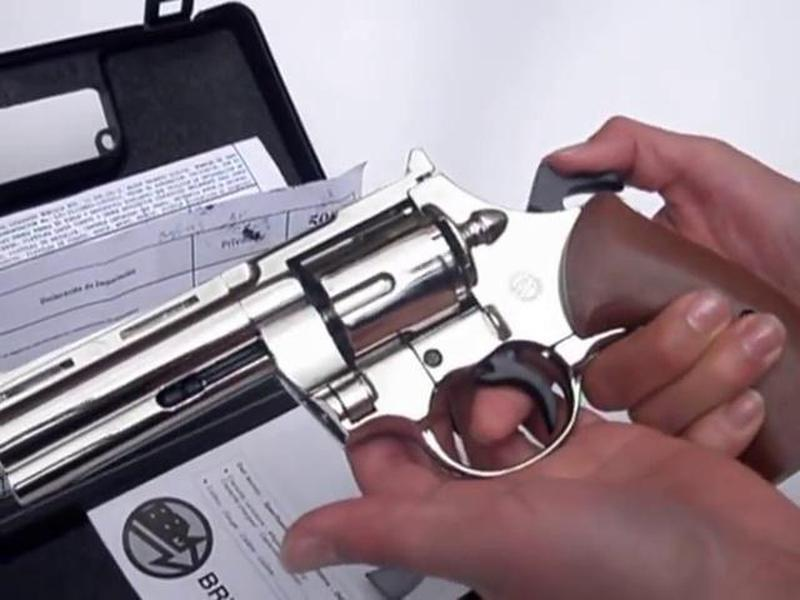Revolver: (2, 143, 659, 500)
